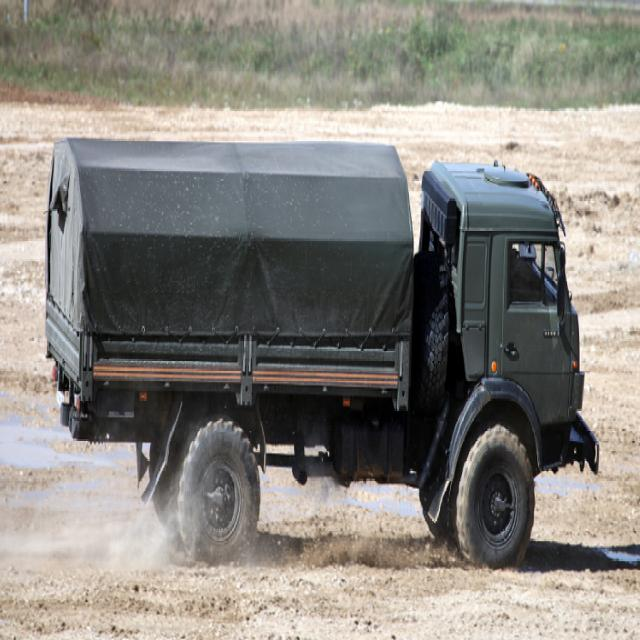TRUCK: (38, 134, 601, 576)
